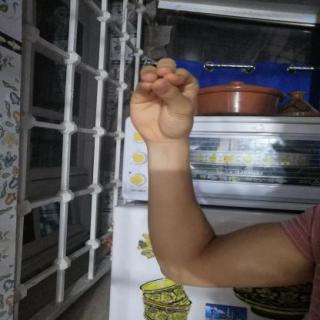HA: (119, 50, 213, 152)
